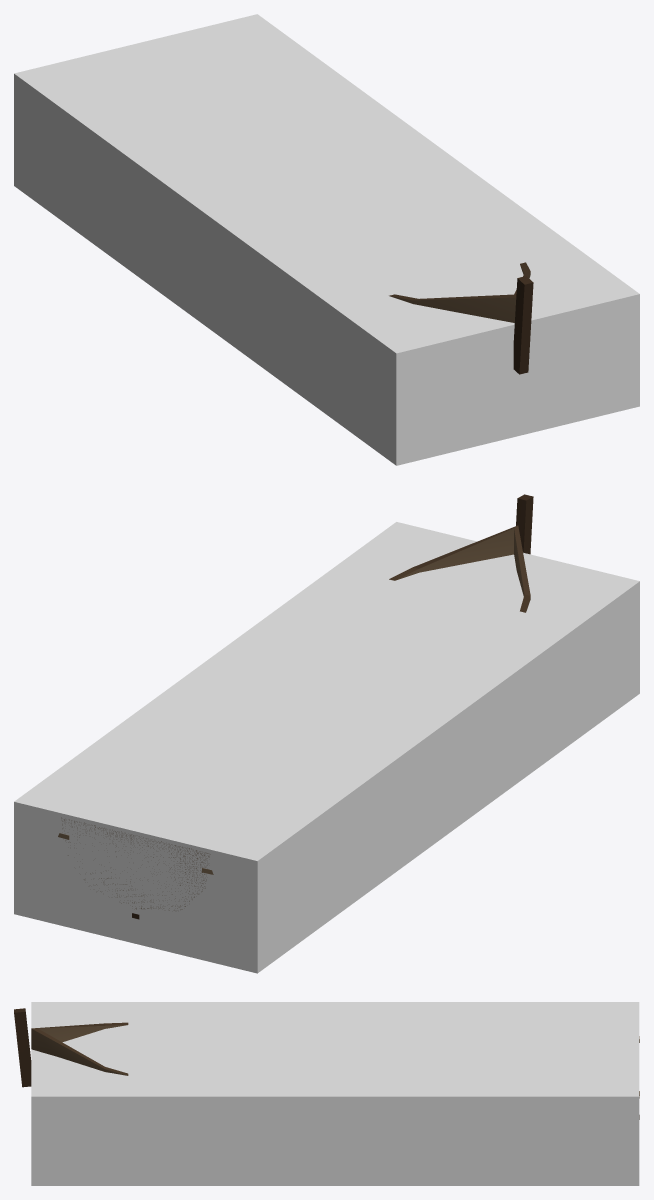
Rendered from rowboat.glb.
3 views of the same model, one above another, from view 1: azimuth 30°, elevation 25°; view 2: azimuth 150°, elevation 25°; view 3: azimuth 270°, elevation 25° (orthographic). The views are drawn at different scales.
Parts seen in each view (by area): view 1: COL_boat, rowboat; view 2: COL_boat, rowboat; view 3: COL_boat, rowboat.
Part boxes in pixels (left/top/right/bottom): COL_boat: left=14, top=14, right=639, bottom=465; rowboat: left=389, top=262, right=533, bottom=374; COL_boat: left=14, top=522, right=639, bottom=973; rowboat: left=58, top=494, right=533, bottom=919; COL_boat: left=31, top=1002, right=639, bottom=1185; rowboat: left=14, top=1008, right=639, bottom=1119.
Bounding box in the file's own units: 1.36 × 0.8635 × 3.81.
